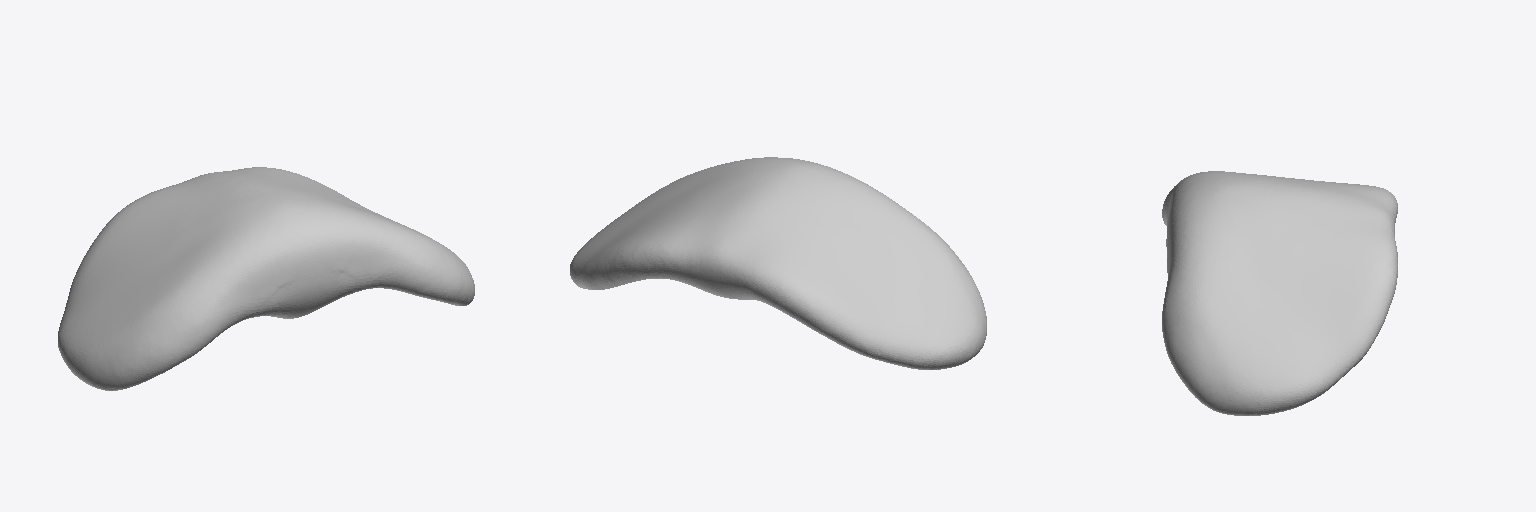
Rendered from shell5.obj.
3 renders of one model, left to right at view 1: azimuth 30°, elevation 25°; view 2: azimuth 150°, elevation 25°; view 3: azimuth 270°, elevation 25°, orthographic.
Parts seen in each view (by area): view 1: Group6084; view 2: Group6084; view 3: Group6084.
Part boxes in pixels (x1,y1,x2,y2): Group6084: (58, 167, 474, 390); Group6084: (570, 157, 986, 369); Group6084: (1162, 171, 1397, 415).
Bounding box in the file's own units: 0.4119 × 0.1423 × 0.2165.